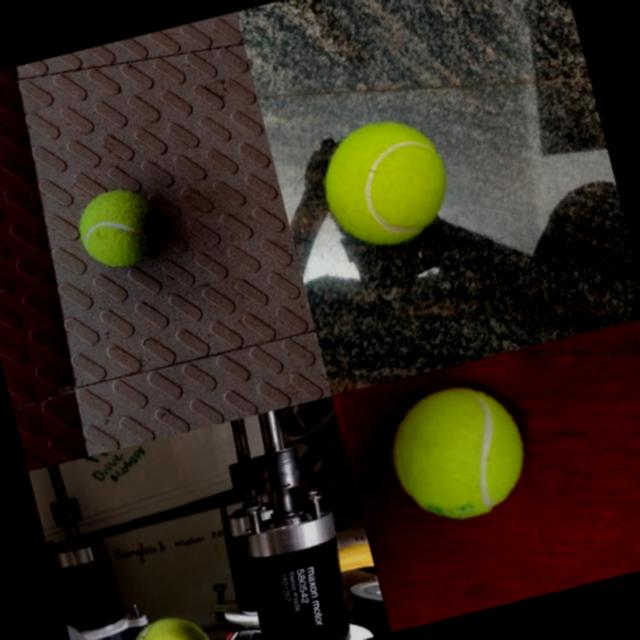tennis-ball: (377, 373, 537, 532), (311, 109, 459, 258), (72, 181, 165, 273), (120, 608, 210, 640)
